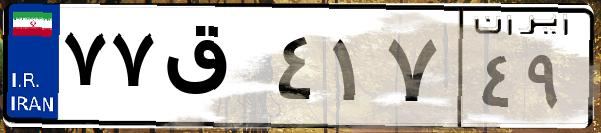1: (330, 28, 385, 110)
4: (270, 28, 330, 110), (475, 38, 525, 113)
7: (385, 28, 445, 110), (57, 26, 110, 100), (110, 28, 158, 98)
9: (525, 38, 570, 115)
ق: (158, 20, 270, 120)
